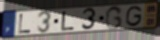3: (80, 7, 99, 32), (36, 9, 52, 35)
G: (104, 5, 124, 30), (124, 5, 143, 28)
L: (17, 13, 33, 35), (60, 10, 76, 32)
